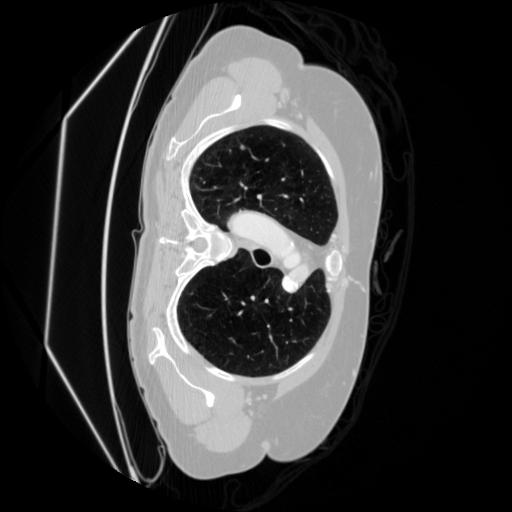nodule: (238, 145, 249, 156)
